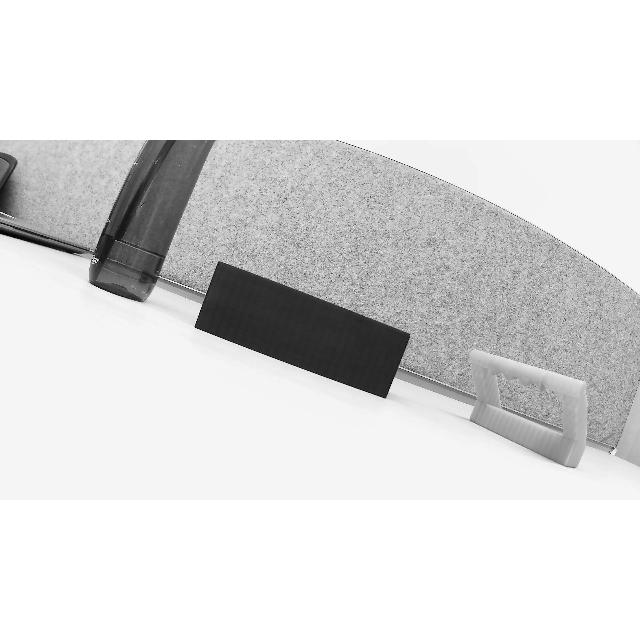targets: (195, 259, 415, 401), (91, 141, 217, 303), (467, 348, 591, 470)
